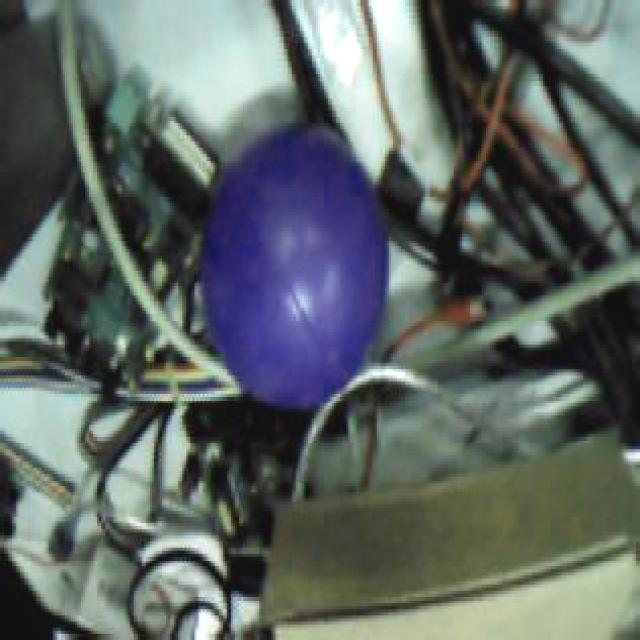BallPurple: (200, 124, 390, 410)
